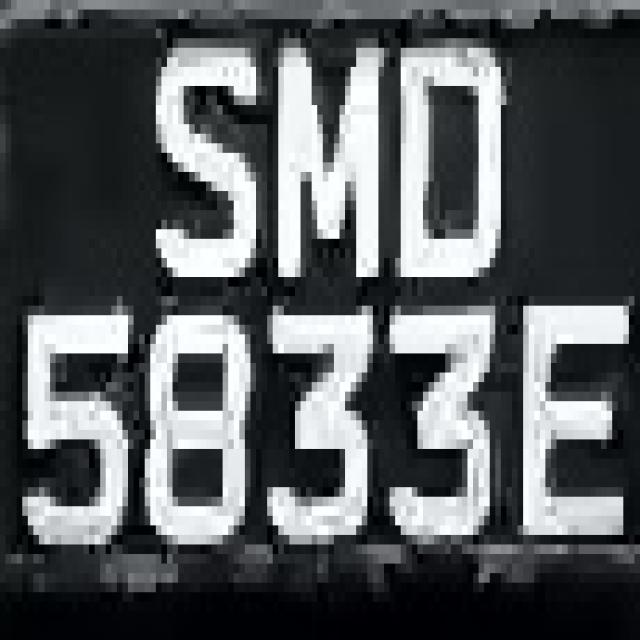3: (256, 277, 373, 544), (373, 306, 490, 573)
5: (11, 267, 145, 554)
8: (139, 286, 262, 564)
D: (390, 38, 512, 306)
E: (506, 277, 624, 583)
M: (262, 19, 389, 306)
S: (134, 0, 267, 277)
